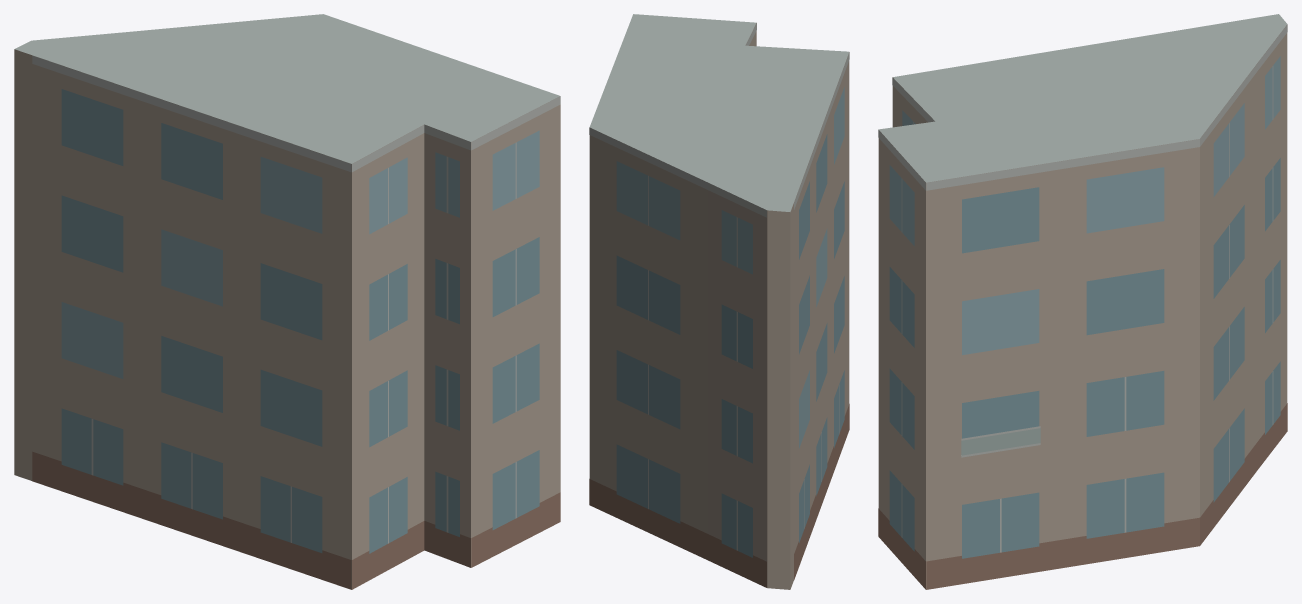
Rendered from survey-upis-32511977.glb.
The picture shows the model from 3 angles, left to right: view 1: azimuth 30°, elevation 25°; view 2: azimuth 150°, elevation 25°; view 3: azimuth 270°, elevation 25°; orthographic projection. The views are drawn at different scales.
Visible parts, largest first — view 1: survey-upis-32511977.tmp; view 2: survey-upis-32511977.tmp; view 3: survey-upis-32511977.tmp.
Part boxes in pixels (x1=…): survey-upis-32511977.tmp: x1=14, y1=14, x2=560, y2=589; survey-upis-32511977.tmp: x1=589, y1=14, x2=849, y2=589; survey-upis-32511977.tmp: x1=878, y1=14, x2=1287, y2=589.
Bounding box in the file's own units: 10.85 × 12.2 × 11.12.
